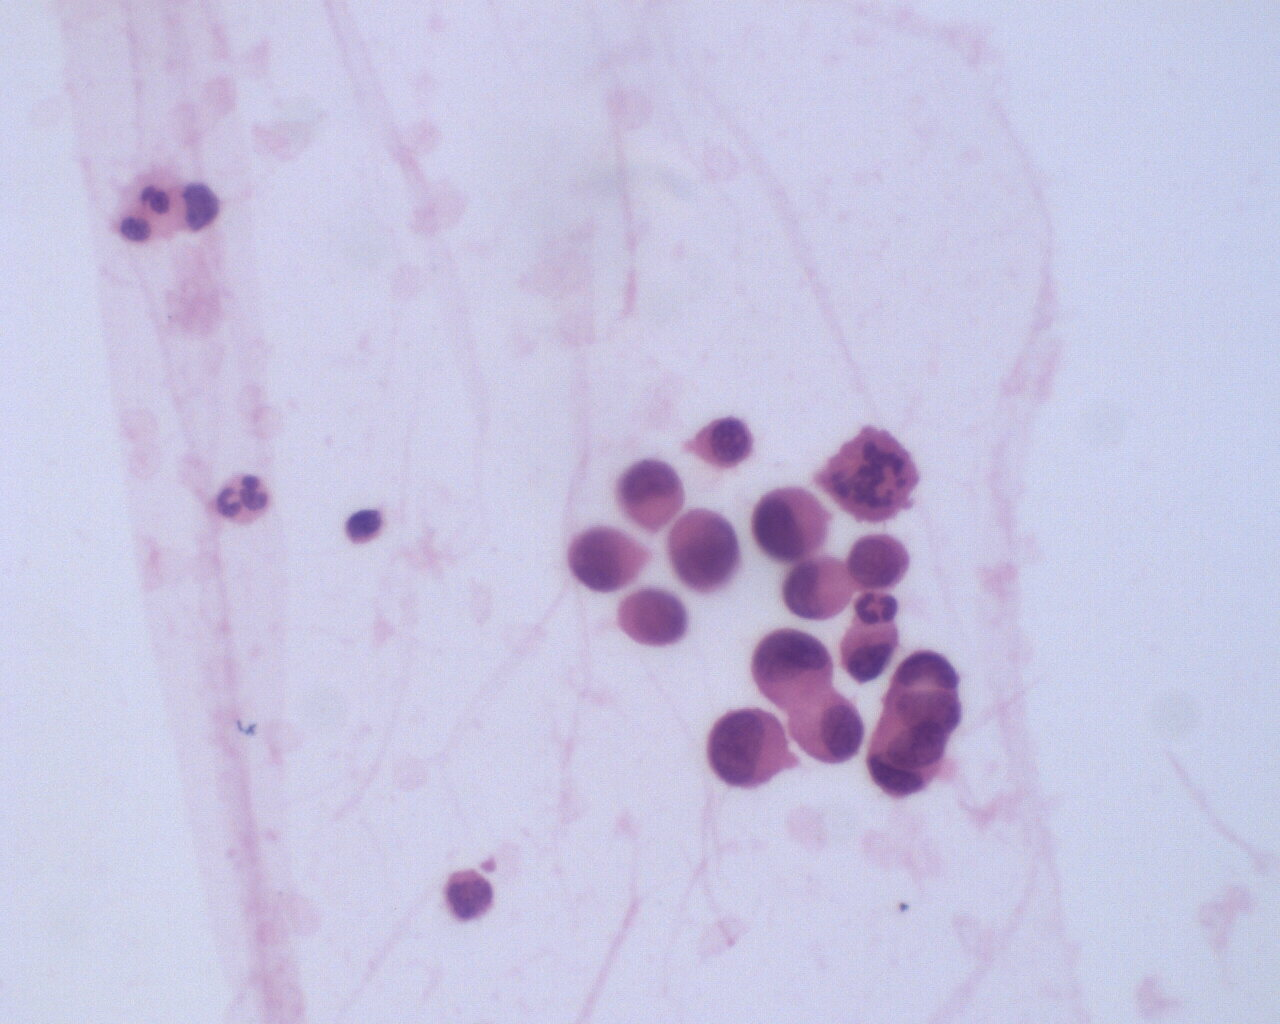ab: (705, 707, 788, 795), (750, 482, 833, 566), (665, 507, 741, 594), (753, 625, 835, 701), (793, 688, 865, 769), (566, 522, 644, 594), (616, 582, 693, 650), (838, 622, 905, 681), (850, 532, 910, 592), (692, 415, 757, 470)
neutro: (205, 472, 272, 530)
